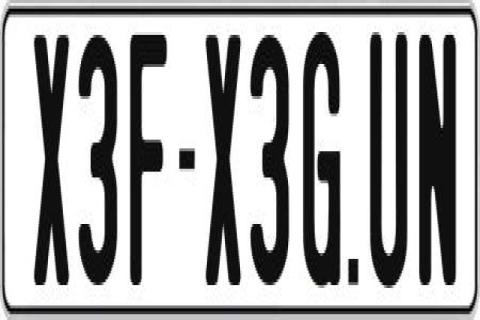0: (78, 29, 119, 288), (250, 35, 288, 288)
F: (127, 29, 169, 291)
G: (302, 24, 340, 294)
N: (416, 32, 454, 296)
U: (368, 32, 409, 291)
X: (202, 27, 243, 280), (33, 35, 72, 297)
